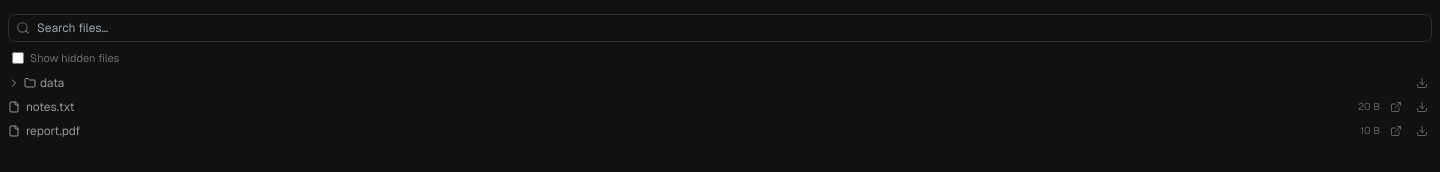
Test case: SidebarWorkspaceTree search › filters visible files as the user types and restores on clear
Expected: the text "report.pdf" is shown, [26,122,80,138]
Type "report" into the search field named "search workspace".
click(720, 28); type("report")  # box [8,14,1432,42]
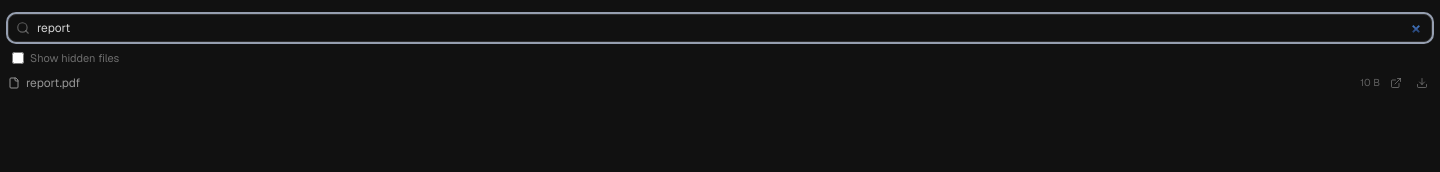
Expected: the text "report.pdf" is shown, [26,74,80,90]
Expected: the text "notes.txt" is gone
Clear the search field named "search workspace" at [720, 28], box [8,14,1432,42]
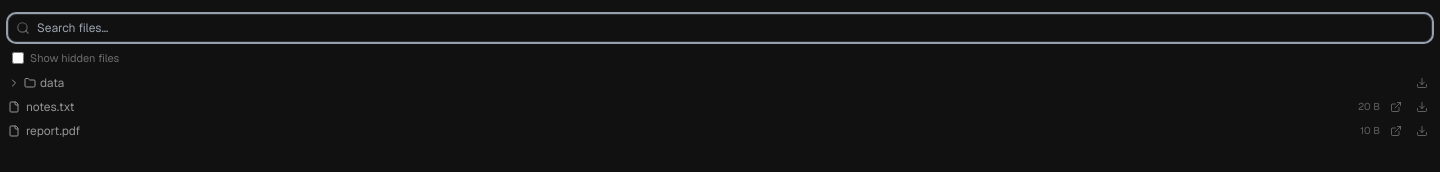
Expected: the text "notes.txt" is shown, [26,98,75,114]
